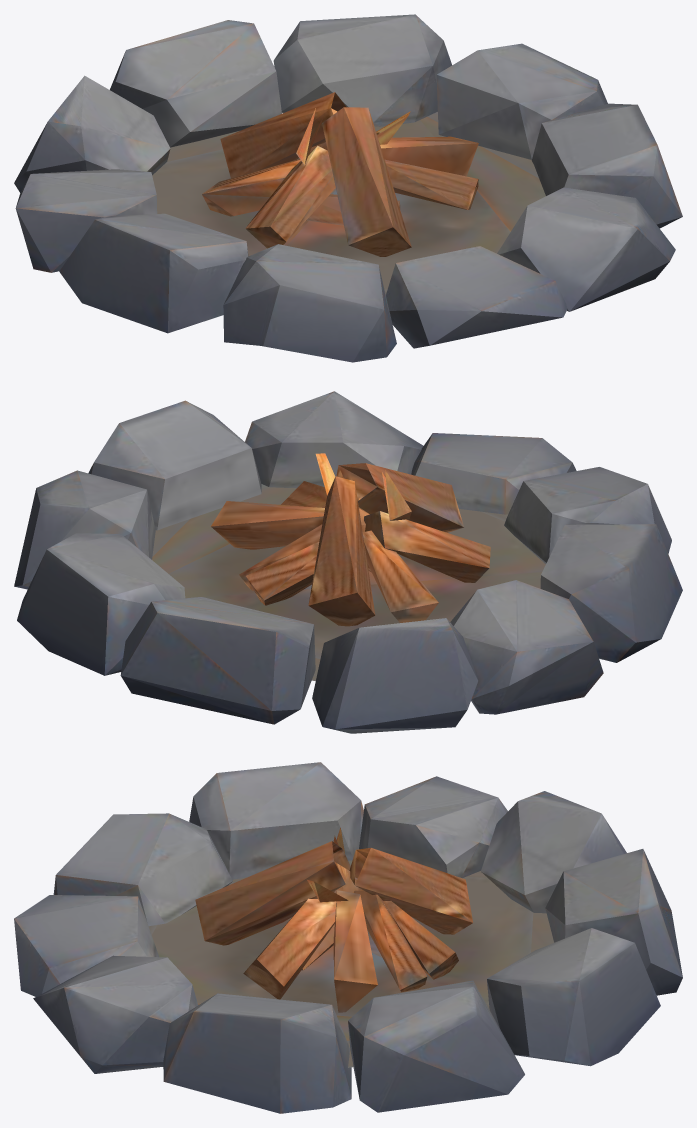
File: a-feu-semis.glb
3 renders of one model, top to bottom at view 1: azimuth 30°, elevation 25°; view 2: azimuth 150°, elevation 25°; view 3: azimuth 270°, elevation 25°, orthographic.
Parts seen in each view (by area): view 1: a-feu-semis; view 2: a-feu-semis; view 3: a-feu-semis.
Part boxes in pixels (x1,y1,x2,y2): a-feu-semis: (14,14,682,362); a-feu-semis: (14,391,682,733); a-feu-semis: (14,762,682,1113).
Bounding box in the file's own units: 2 × 0.4576 × 1.98.
1 material, 1 textured.
